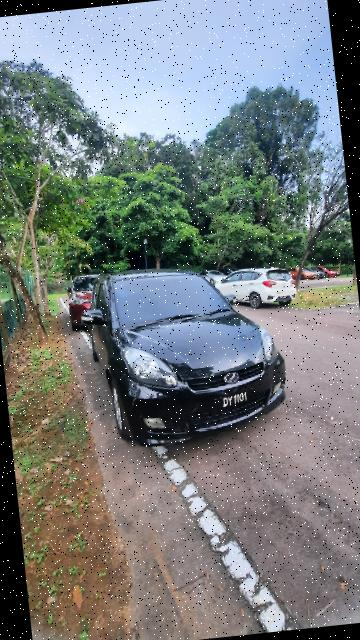License_Plate: (212, 387, 260, 413)
car: (77, 254, 309, 457)
